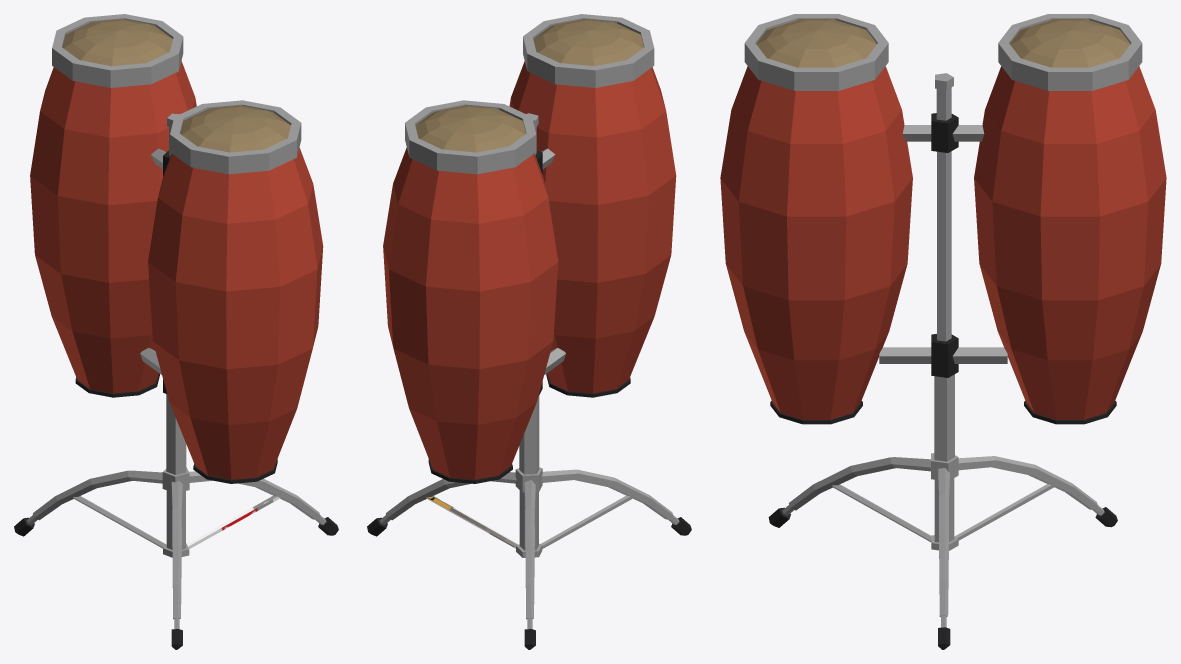
Rendered from Int_MusicRoomCongaDrum01.fbx.
The picture shows the model from 3 angles, left to right: view 1: azimuth 30°, elevation 25°; view 2: azimuth 150°, elevation 25°; view 3: azimuth 270°, elevation 25°; orthographic projection. The views are drawn at different scales.
Parts seen in each view (by area): view 1: Int_MusicRoomCongaDrum01; view 2: Int_MusicRoomCongaDrum01; view 3: Int_MusicRoomCongaDrum01.
Boxes of the visible parts, left/top/right/bottom form: Int_MusicRoomCongaDrum01: left=14, top=14, right=338, bottom=649; Int_MusicRoomCongaDrum01: left=367, top=14, right=691, bottom=649; Int_MusicRoomCongaDrum01: left=720, top=14, right=1166, bottom=649.
Size of what is drawn, in the model's own units: 61.77 by 90.51 by 120.
